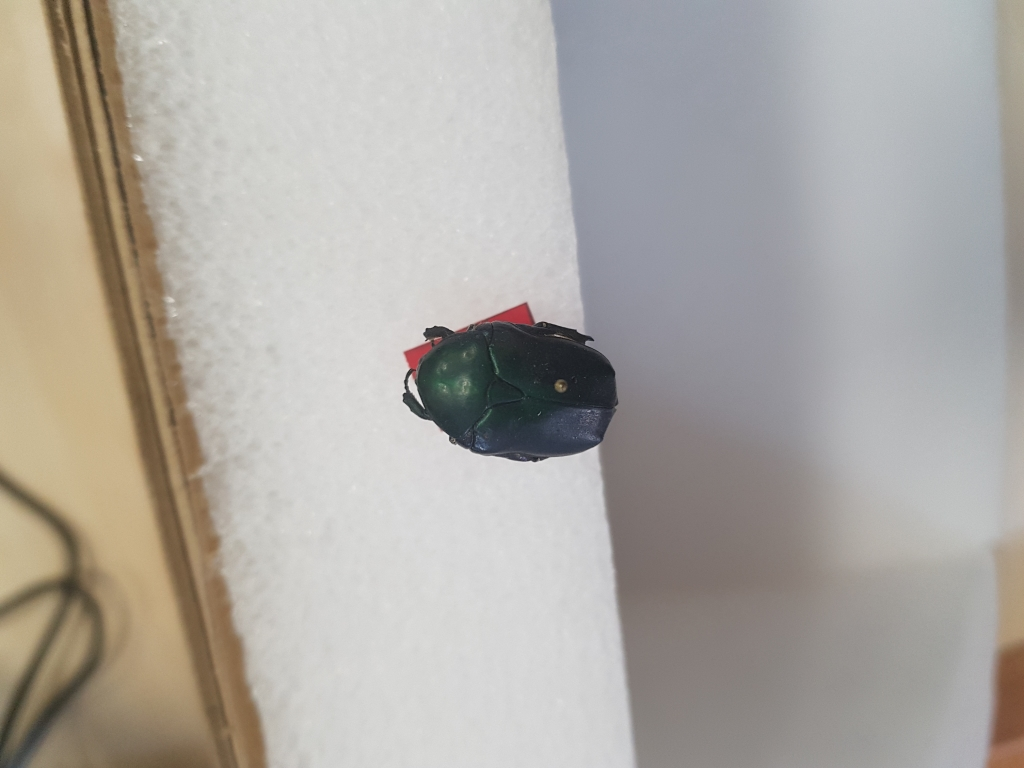Protaetia_afflicta: (396, 310, 627, 471)
